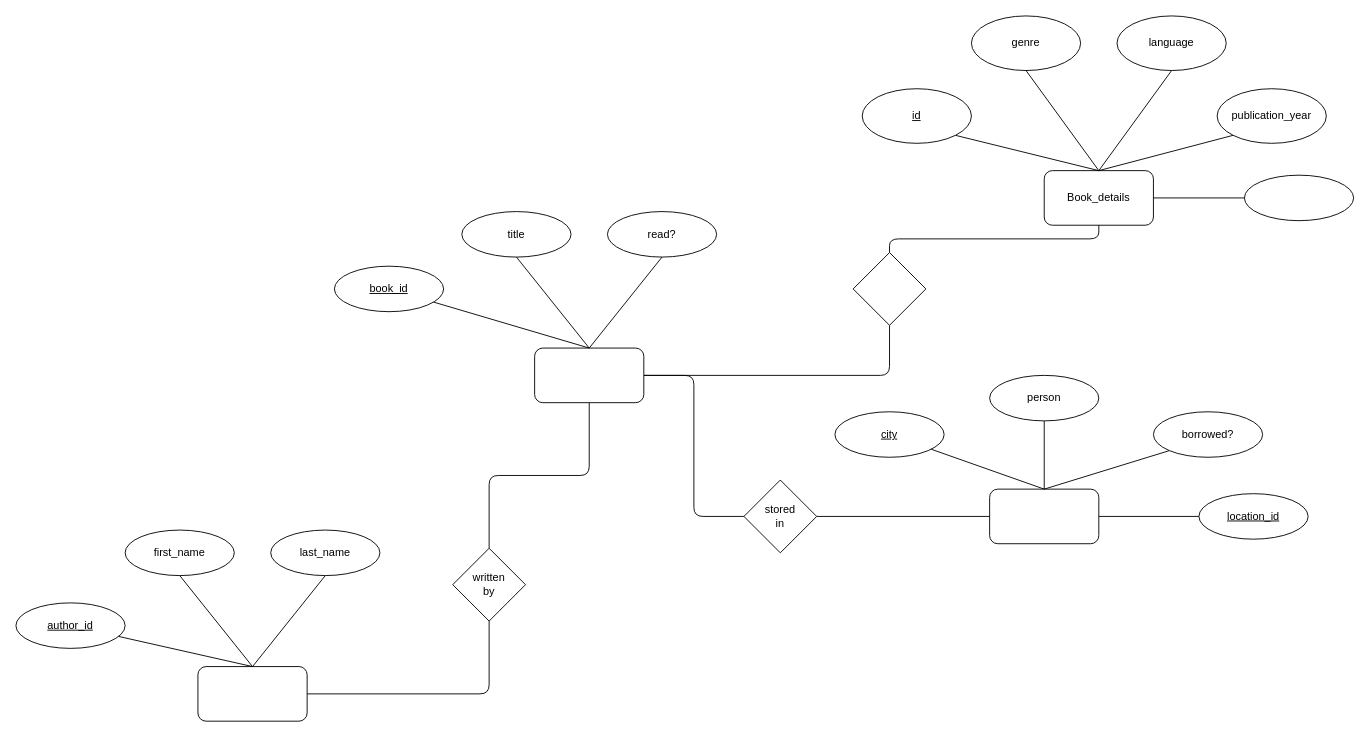
Some shapes in this 1370 by 737 pixel diagram are drawn without their labels. Here are the shapes that lost their labels. From the top down, the centre of each, then its label:
At [1299,197]: "description".
At [889,288]: "has".
At [589,375]: "Book".
At [1044,516]: "Location".
At [252,693]: "Author".
